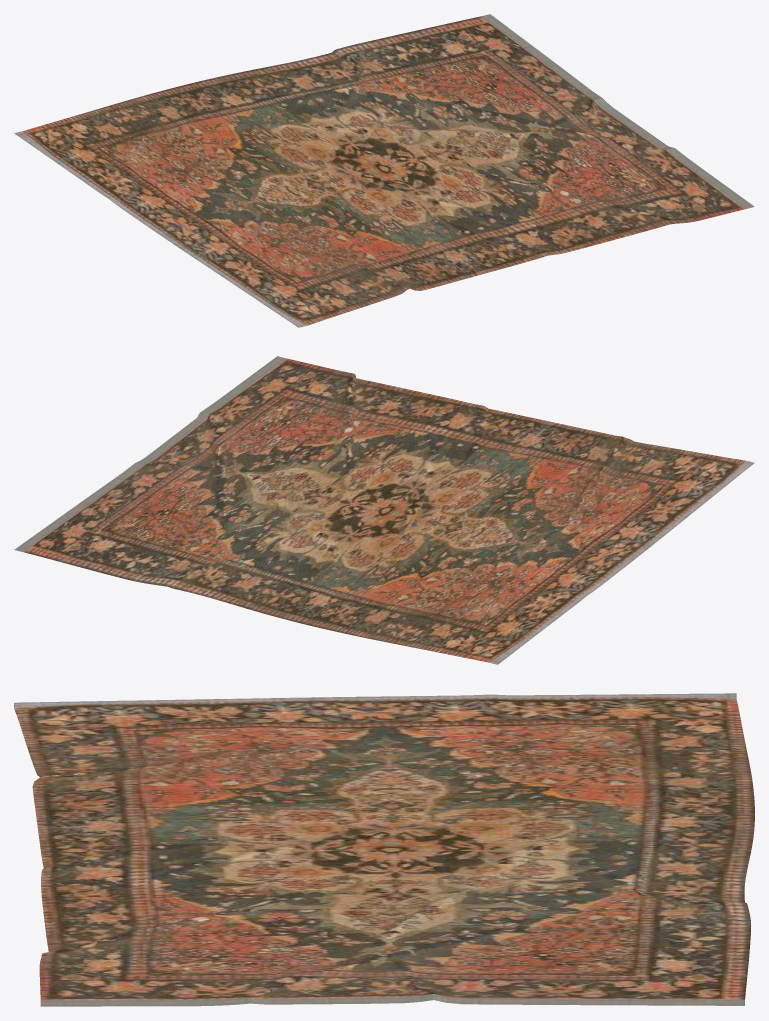
File: rug_huddle.glb
The picture shows the model from 3 angles, top to bottom: view 1: azimuth 30°, elevation 25°; view 2: azimuth 150°, elevation 25°; view 3: azimuth 270°, elevation 25°; orthographic projection. The views are drawn at different scales.
Visible parts, largest first — view 1: old_persian_carpet_0_n0; view 2: old_persian_carpet_0_n0; view 3: old_persian_carpet_0_n0.
Boxes of the visible parts, x1,y1,x2,y2 form: old_persian_carpet_0_n0: [14, 14, 754, 327]; old_persian_carpet_0_n0: [14, 356, 754, 664]; old_persian_carpet_0_n0: [14, 693, 754, 1006].
Bounding box in the file's own units: 2.6 × 0.02 × 2.6.
Materials: 1 (1 with a texture image).
